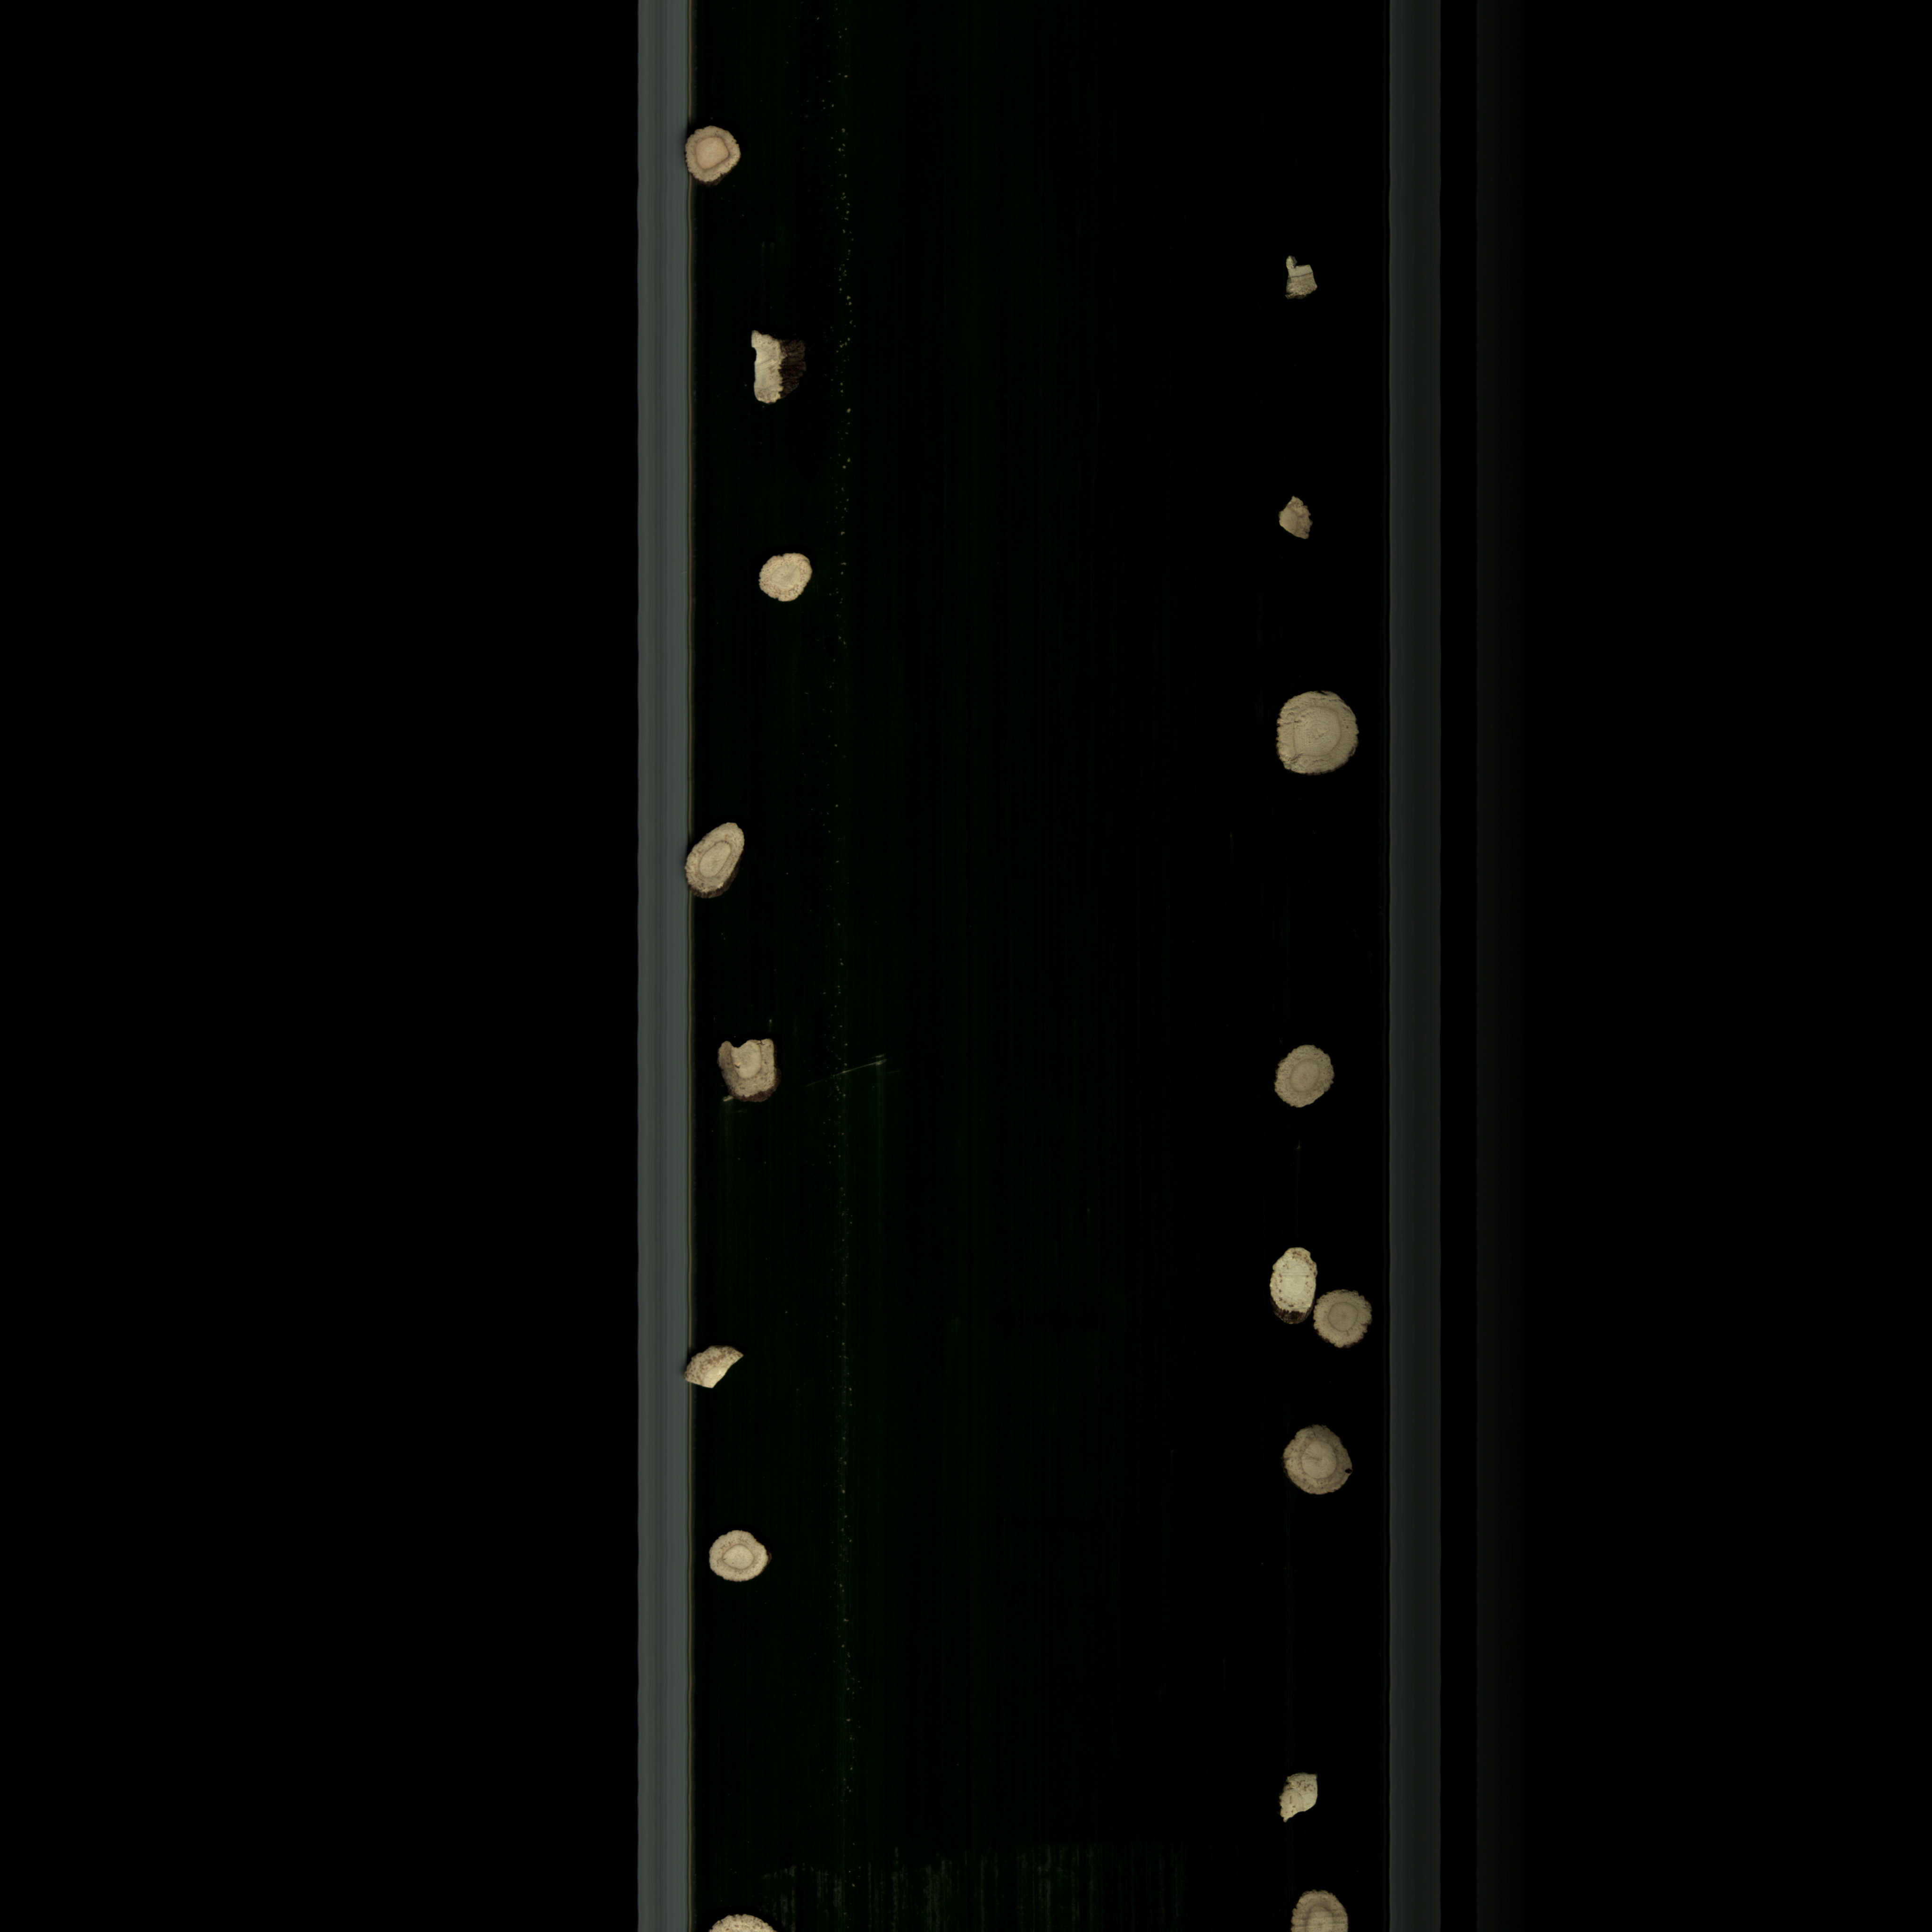distortion: (725, 315, 794, 433), (671, 814, 757, 901), (1260, 1238, 1315, 1338), (1274, 242, 1334, 318)
dreg: (1253, 1762, 1325, 1842), (672, 1338, 761, 1396), (1274, 476, 1327, 561)
moldy: (671, 99, 757, 196), (1261, 1417, 1362, 1500), (713, 1030, 793, 1123), (1265, 1870, 1378, 1932), (1267, 1033, 1339, 1118), (1304, 1284, 1373, 1368), (699, 1527, 775, 1596)
